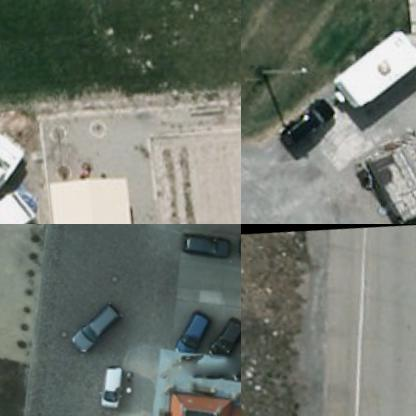camping car: (316, 12, 415, 118)
car: (273, 86, 347, 152), (68, 300, 127, 358), (175, 225, 235, 264), (168, 306, 214, 356), (96, 358, 134, 416), (205, 310, 240, 361)
